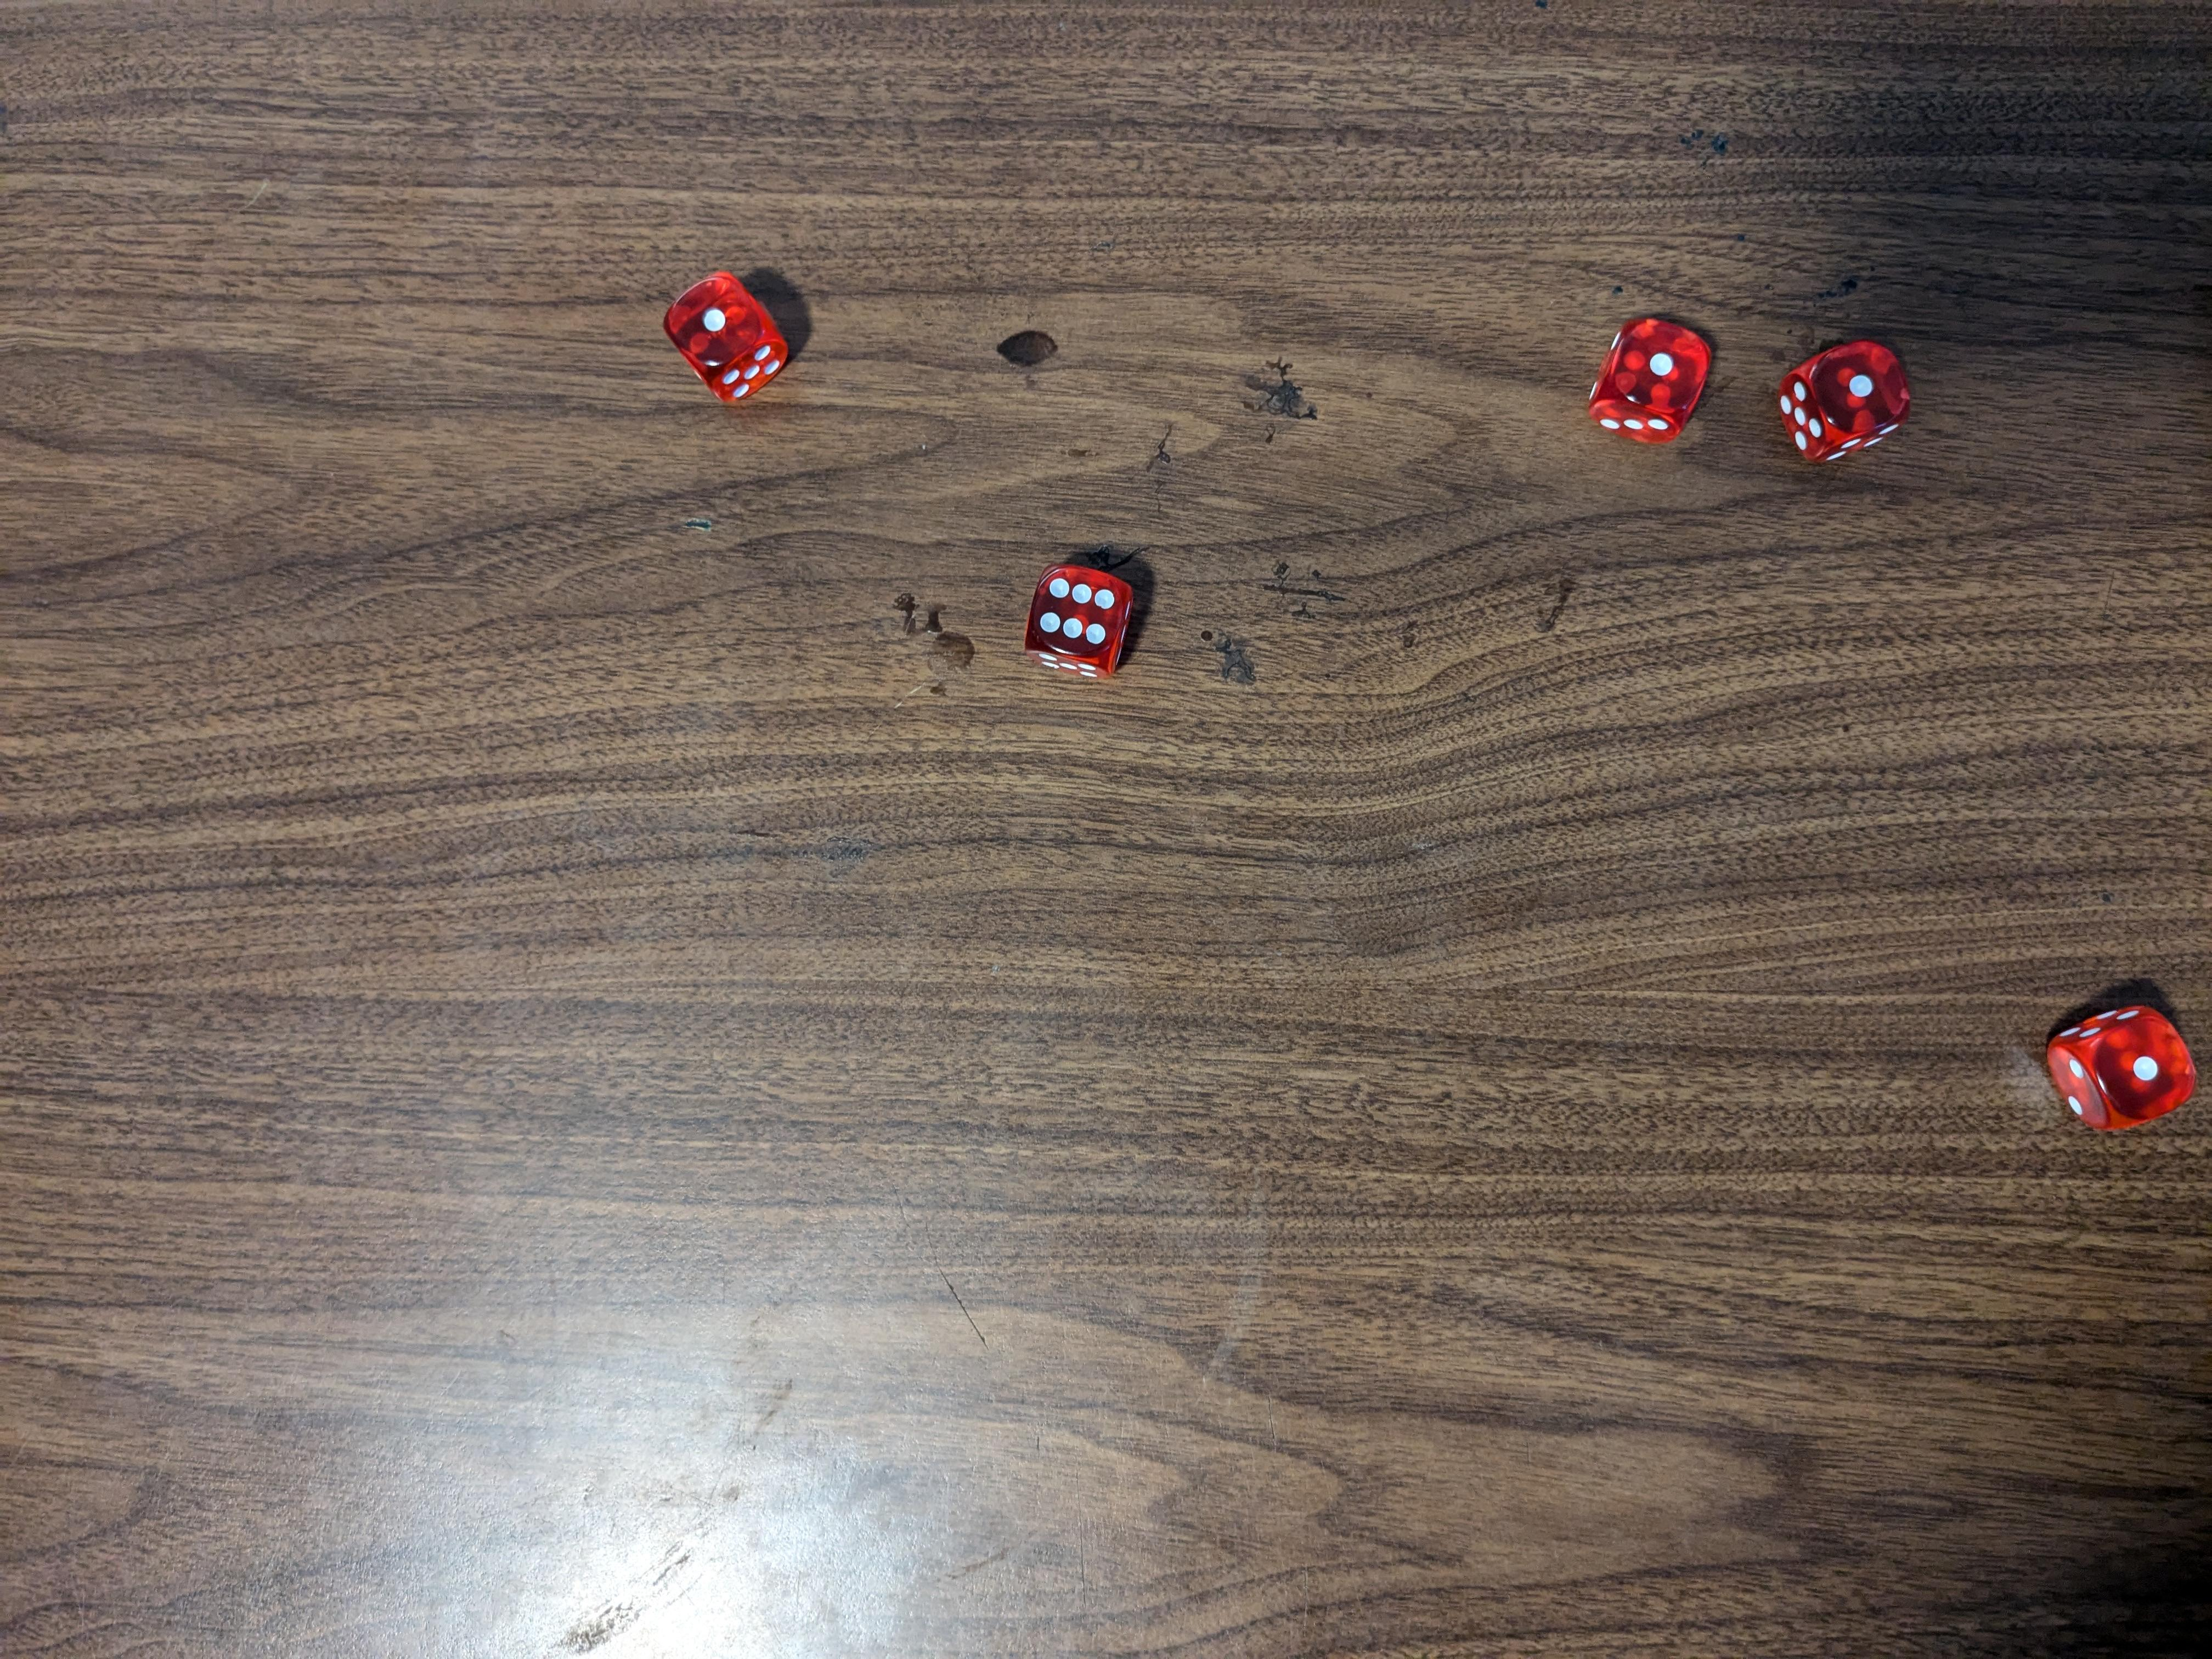one: (2043, 1004, 2198, 1131), (660, 265, 787, 399), (1588, 310, 1712, 444), (1782, 335, 1916, 458)
six: (1019, 559, 1141, 685)
